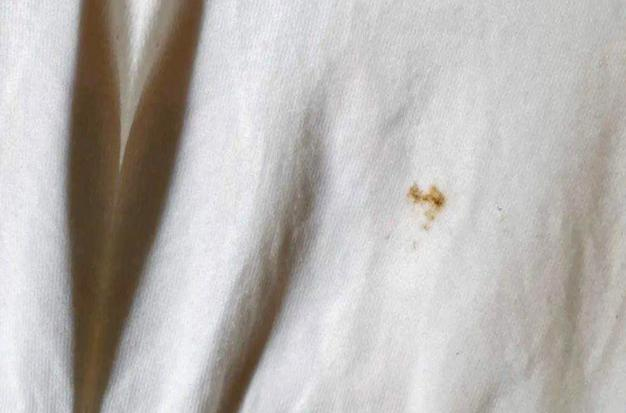stain: (401, 173, 453, 239)
